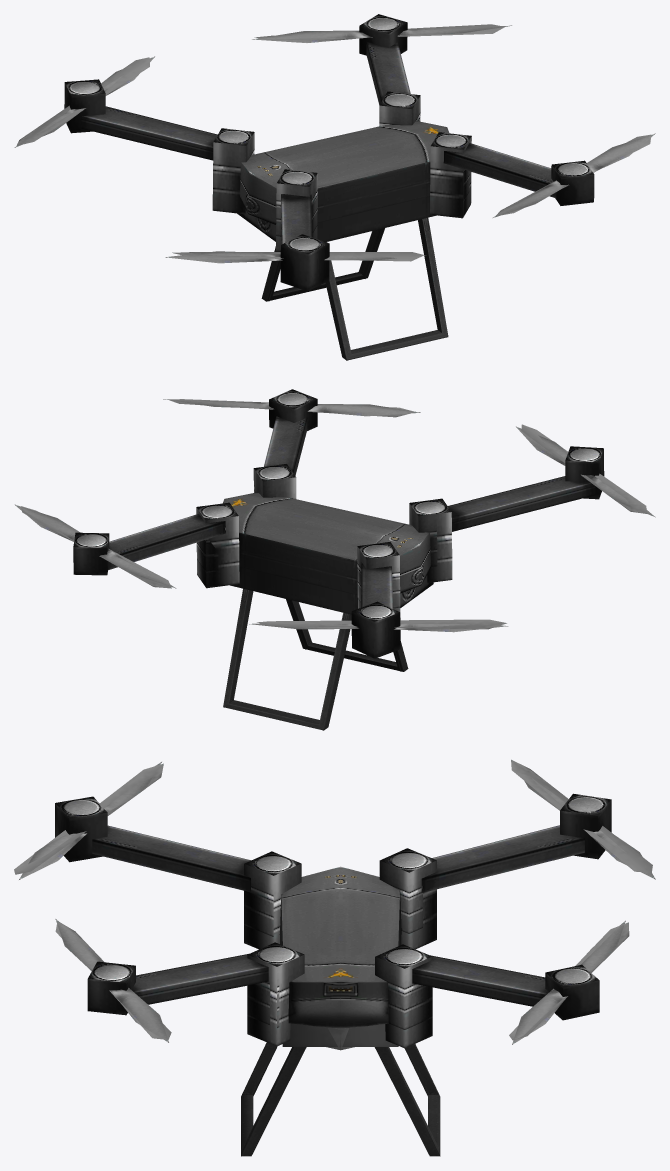
File: uav.glb
The picture shows the model from 3 angles, top to bottom: view 1: azimuth 30°, elevation 25°; view 2: azimuth 150°, elevation 25°; view 3: azimuth 270°, elevation 25°; orthographic projection. The views are drawn at different scales.
Parts seen in each view (by area): view 1: Object_2; view 2: Object_2; view 3: Object_2.
Part boxes in pixels (bbox=[...]): Object_2: bbox=[14, 14, 655, 360]; Object_2: bbox=[15, 389, 655, 730]; Object_2: bbox=[14, 759, 655, 1156].
Size of the model in its own units: 8.93 by 3.33 by 8.49.
1 material, 1 textured.
